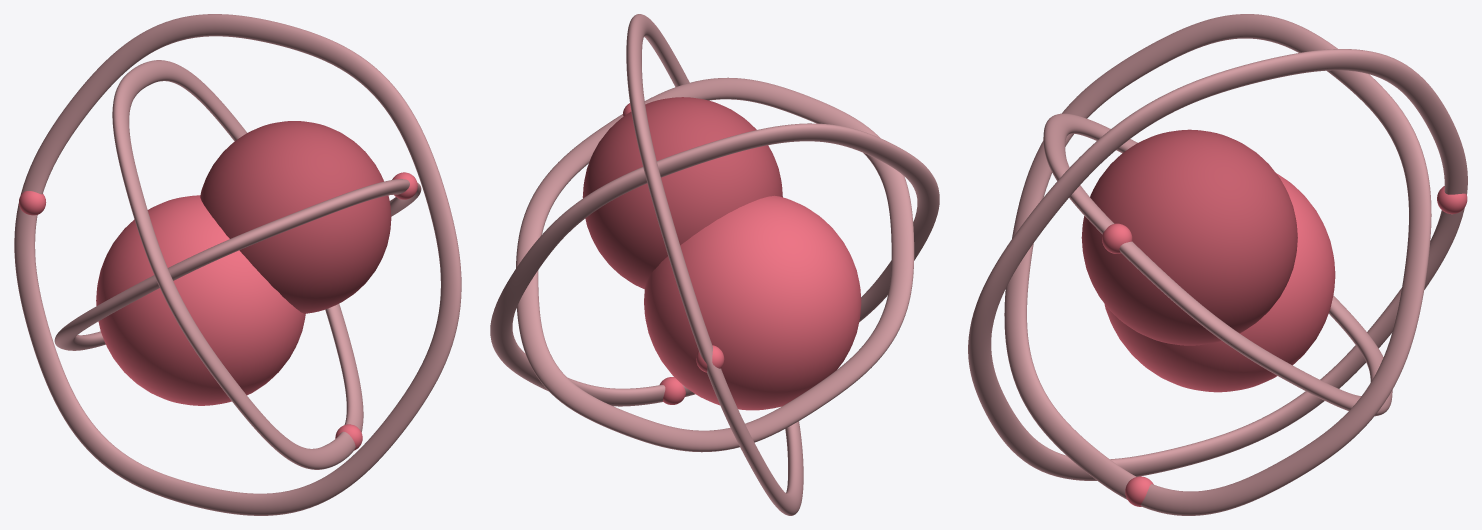
3 views of the same model, side by side, from view 1: azimuth 30°, elevation 25°; view 2: azimuth 150°, elevation 25°; view 3: azimuth 270°, elevation 25° (orthographic). The views are drawn at different scales.
Size of the model in its own units: 0.9618 by 1.11 by 1.06.
